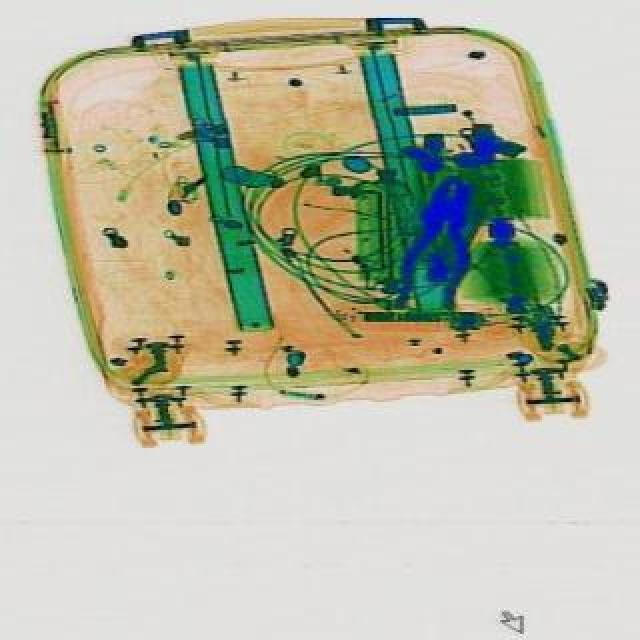wrench: (396, 172, 492, 320)
